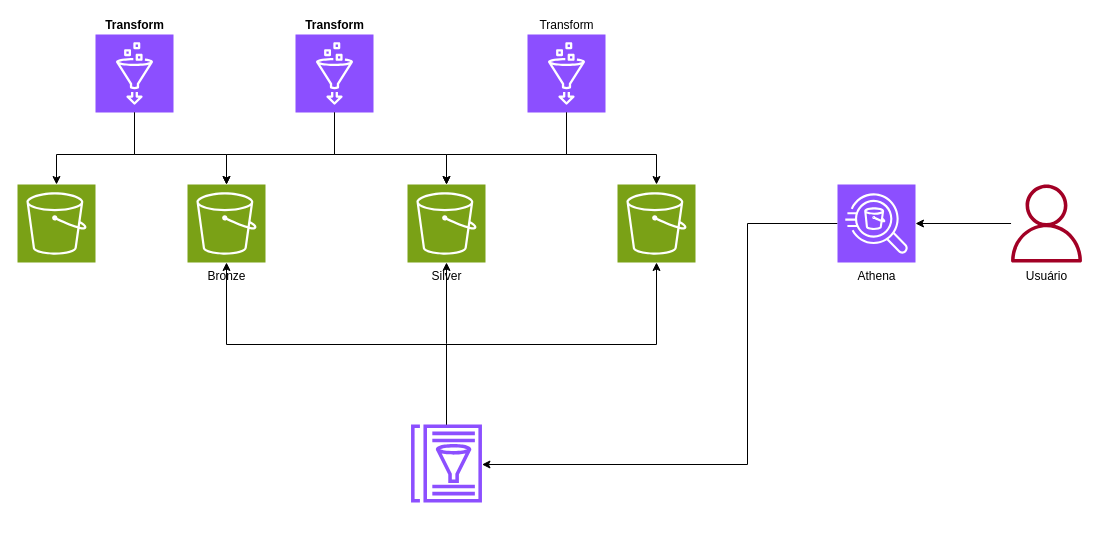
Image size: 1103x540. Some labels were removed from this diagram. The shapes that lost their labels are listed below. From the top down, each one's box as (x1, y1, x2, y2) in pixels, then its label:
(16, 184, 96, 262): Raw
(616, 184, 696, 262): Gold
(410, 424, 482, 502): Data Catalog
